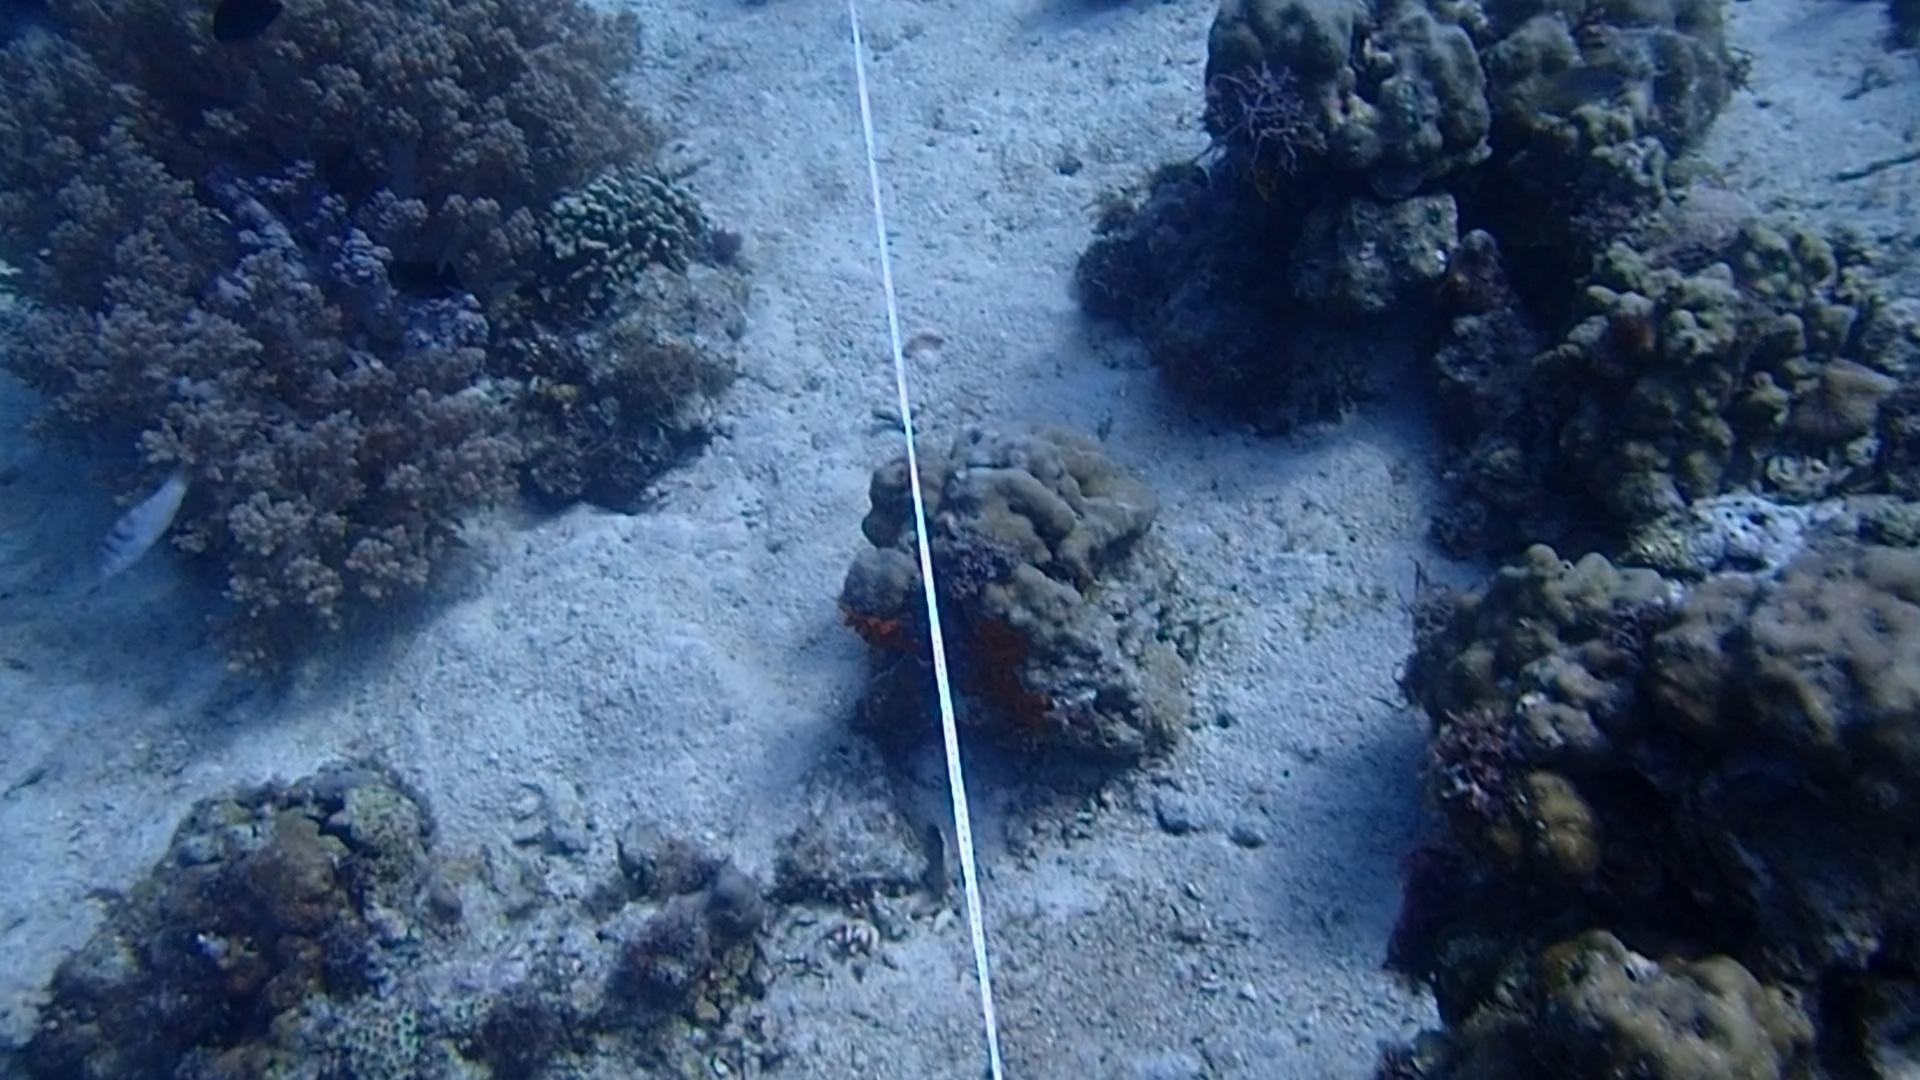Dark Fish: (365, 248, 465, 303)
Light Fish w Back Stripes: (84, 460, 193, 591)
